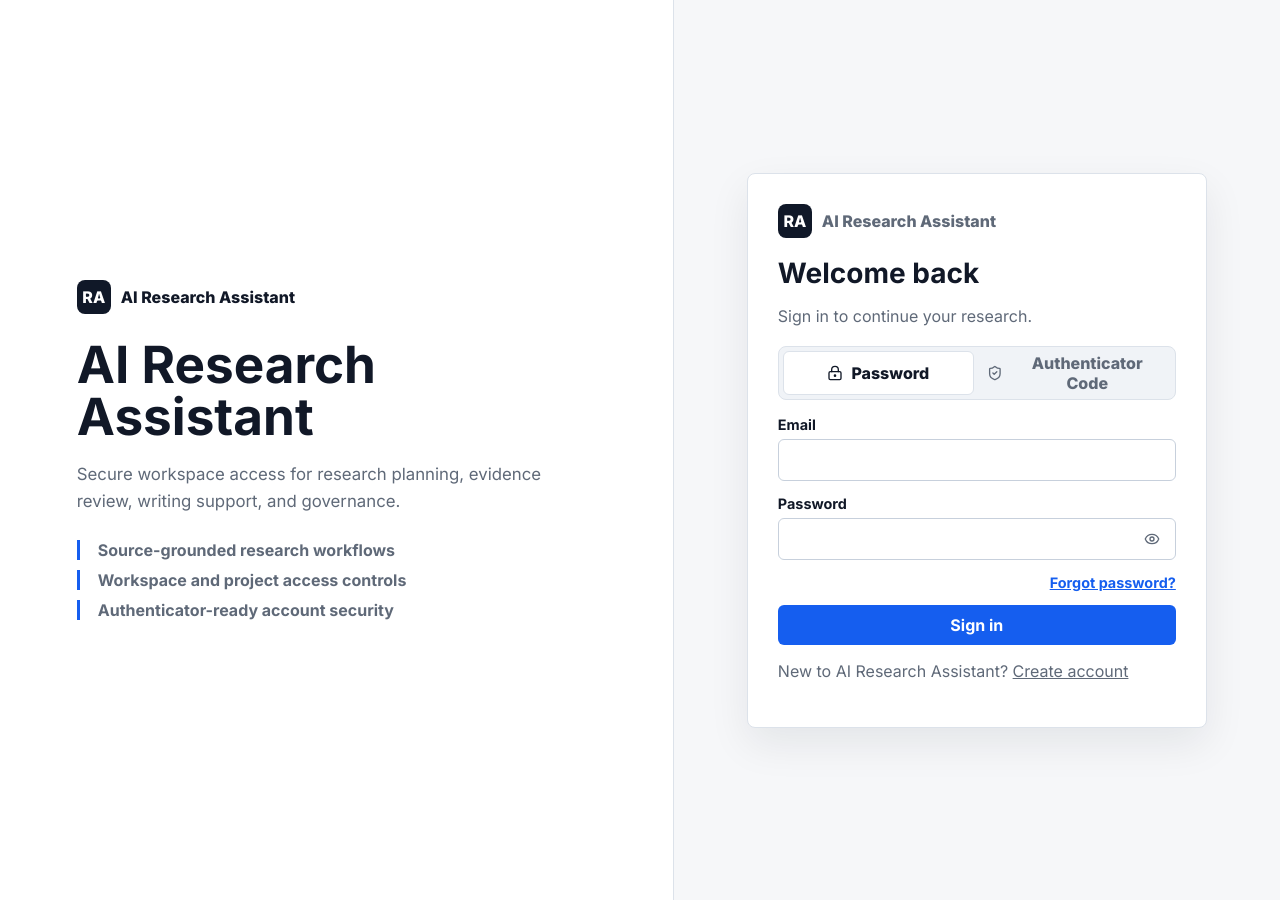
LoginPage › displays TOTP and rate limit errors without stack traces
Click the tab "Authenticator Code".
click(1075, 372)  # box x1=980 y1=350 x2=1171 y2=394
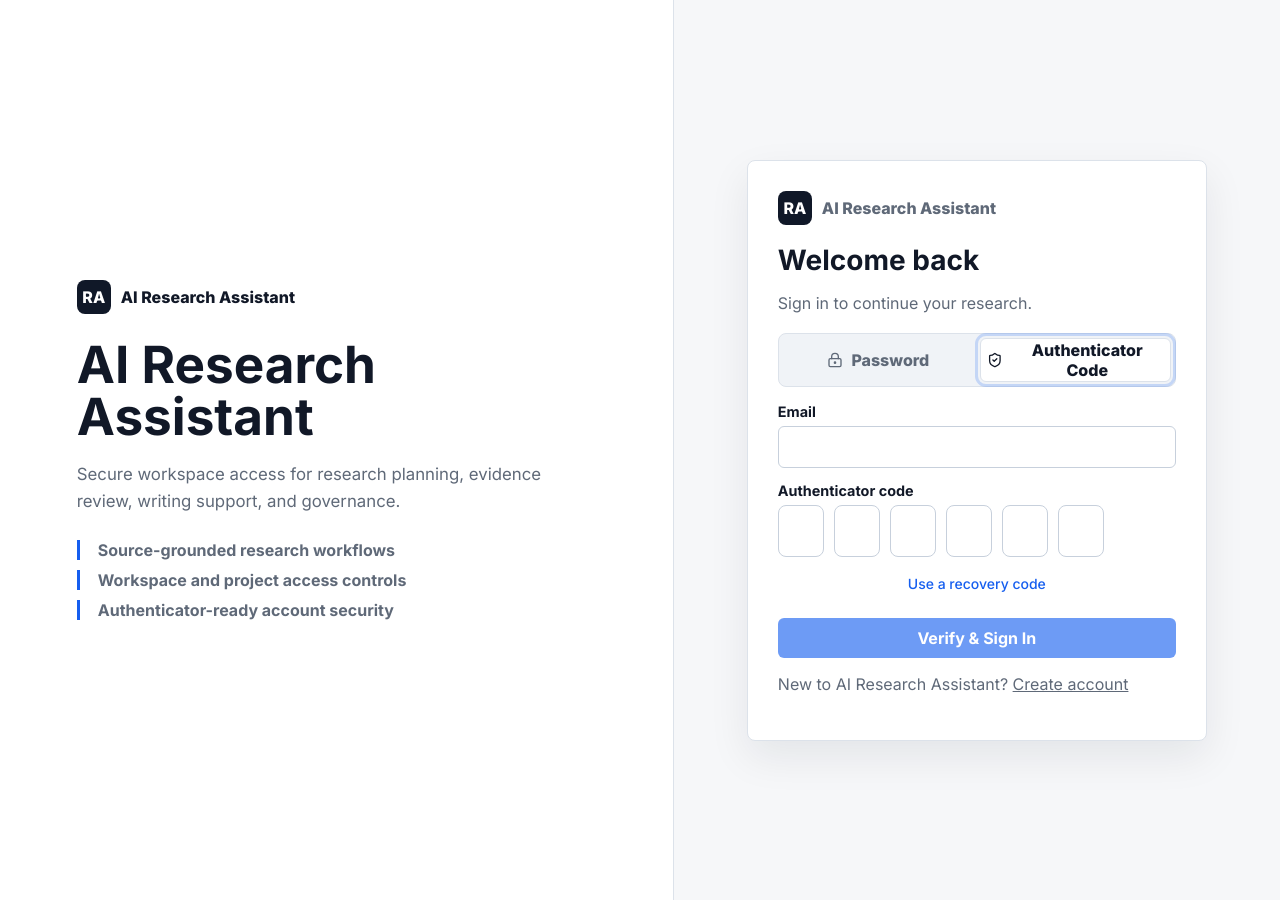
Type "researcher@example.com" into the field labelled "Email".
click(977, 446); type("researcher@example.com")  # box x1=778 y1=426 x2=1176 y2=468
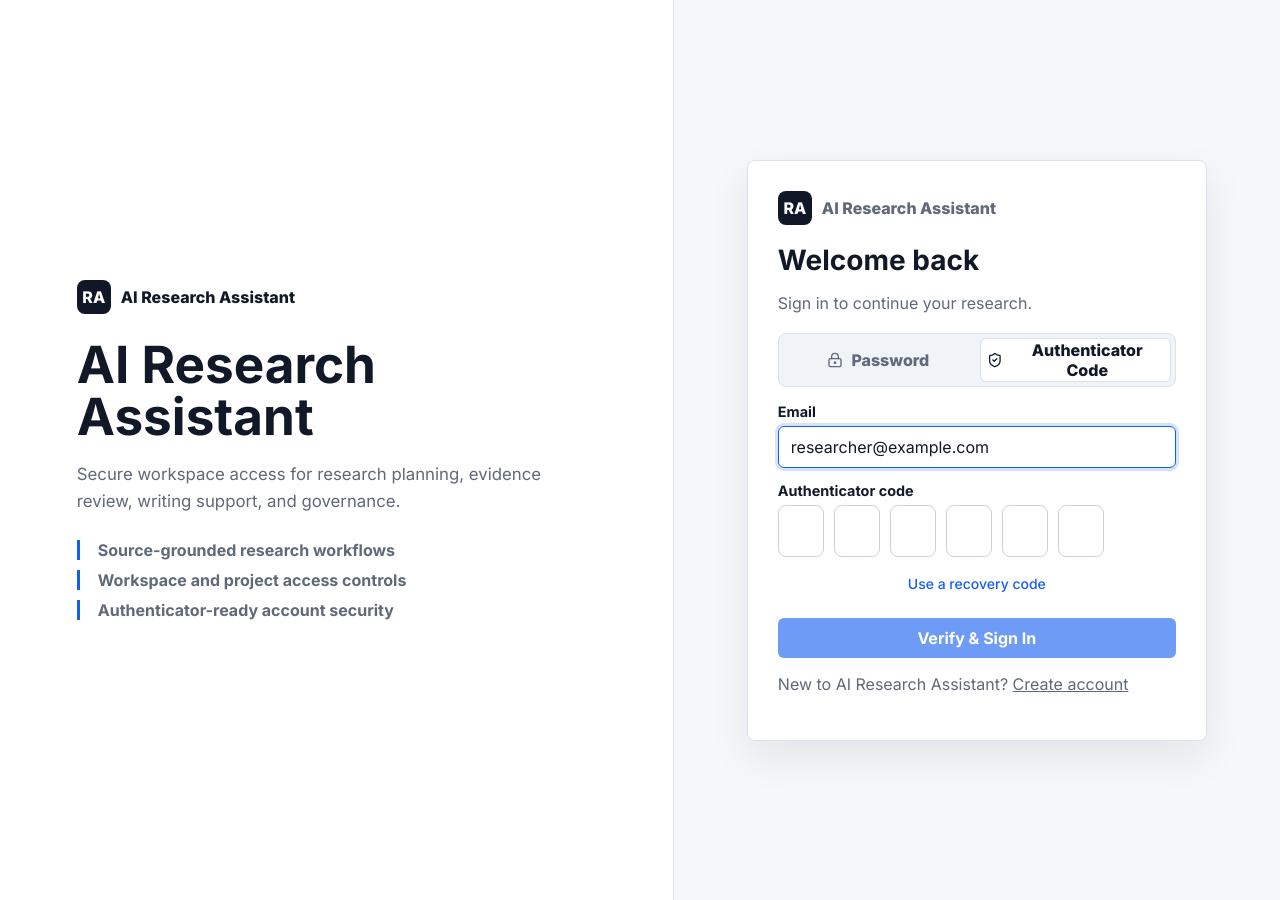
Type "123456" into the field labelled "Authenticator code".
click(801, 530); type("123456")  # box x1=778 y1=504 x2=824 y2=556
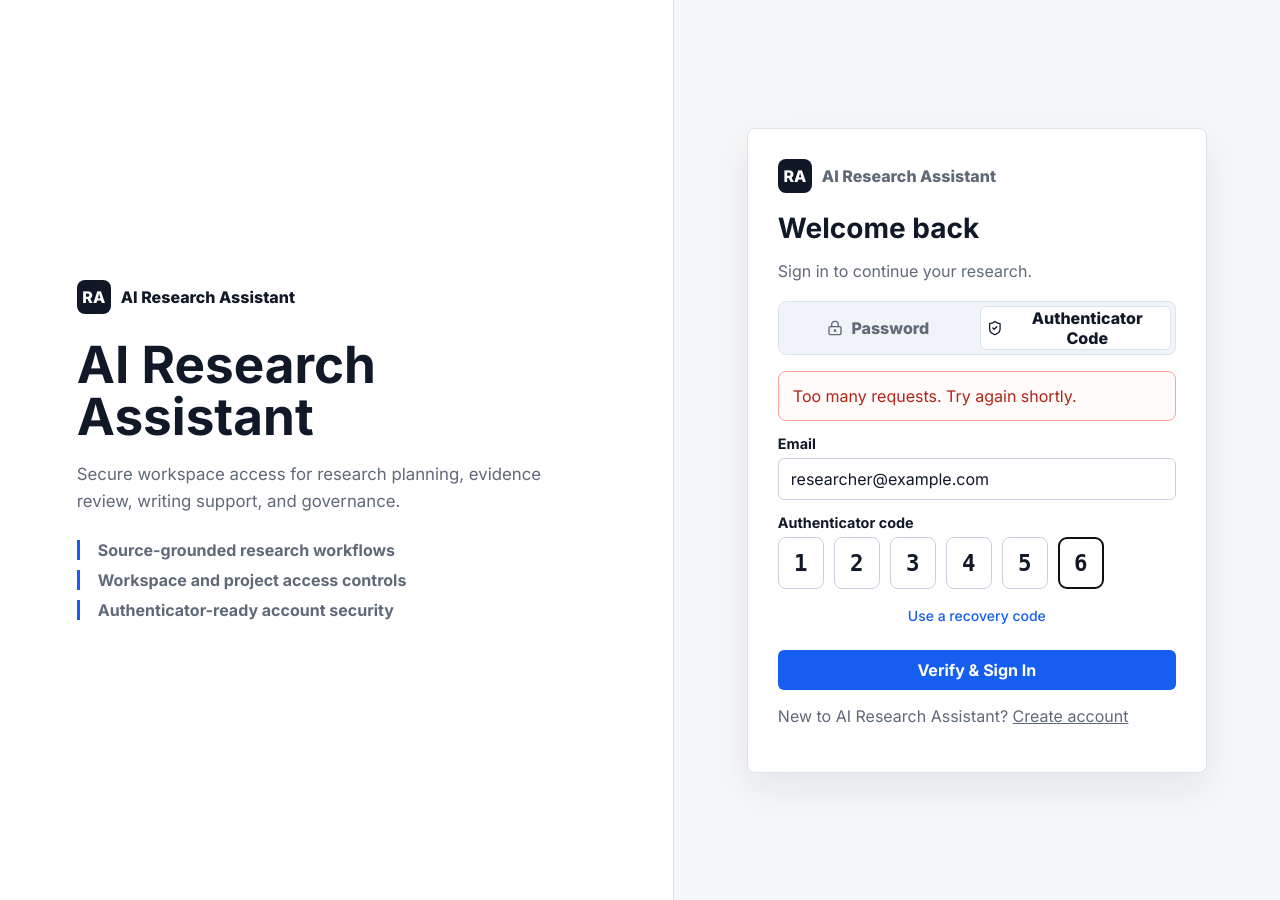
Expected: the message reads "Too many requests. Try again shortly.", x1=793 y1=386 x2=1077 y2=406
